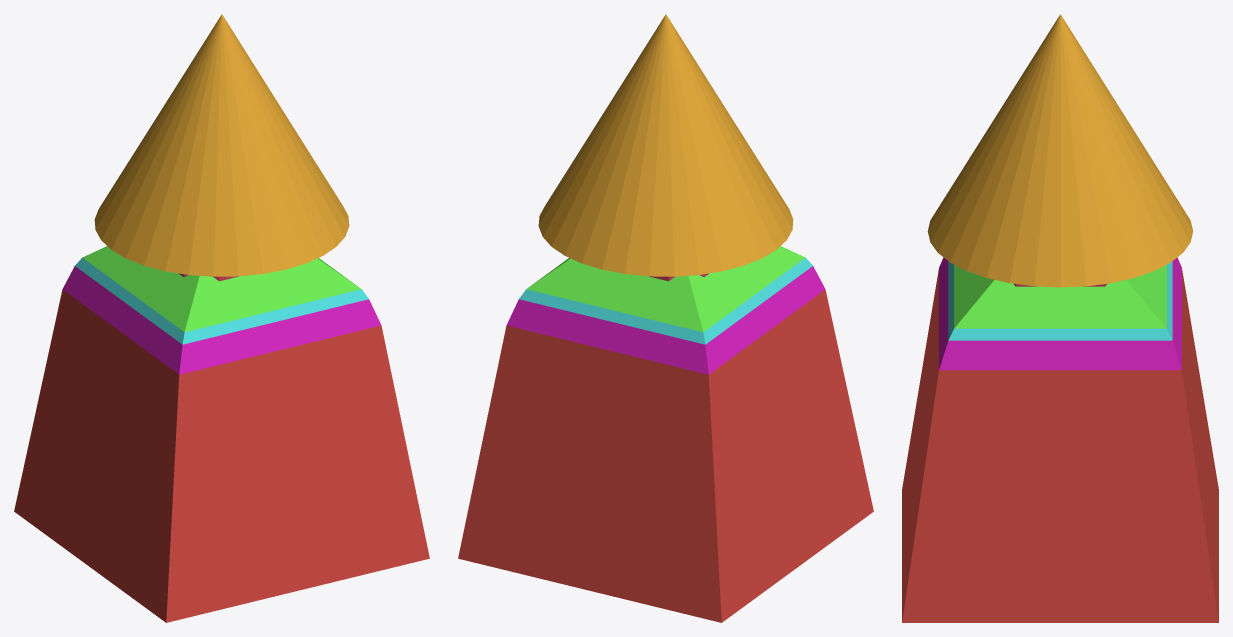
The model's file is princess.fbx.
3 renders of one model, left to right at view 1: azimuth 30°, elevation 25°; view 2: azimuth 150°, elevation 25°; view 3: azimuth 270°, elevation 25°, orthographic. The views are drawn at different scales.
Visible parts, largest first — view 1: Cube, Cone; view 2: Cube, Cone; view 3: Cube, Cone.
Boxes of the visible parts, x1,y1,x2,y2 form: Cube: (14,246,429,622); Cone: (94,14,349,276); Cube: (458,246,873,622); Cone: (538,14,793,276); Cube: (902,257,1218,622); Cone: (927,14,1193,287).
Bounding box in the file's own units: 288 × 544 × 288.
